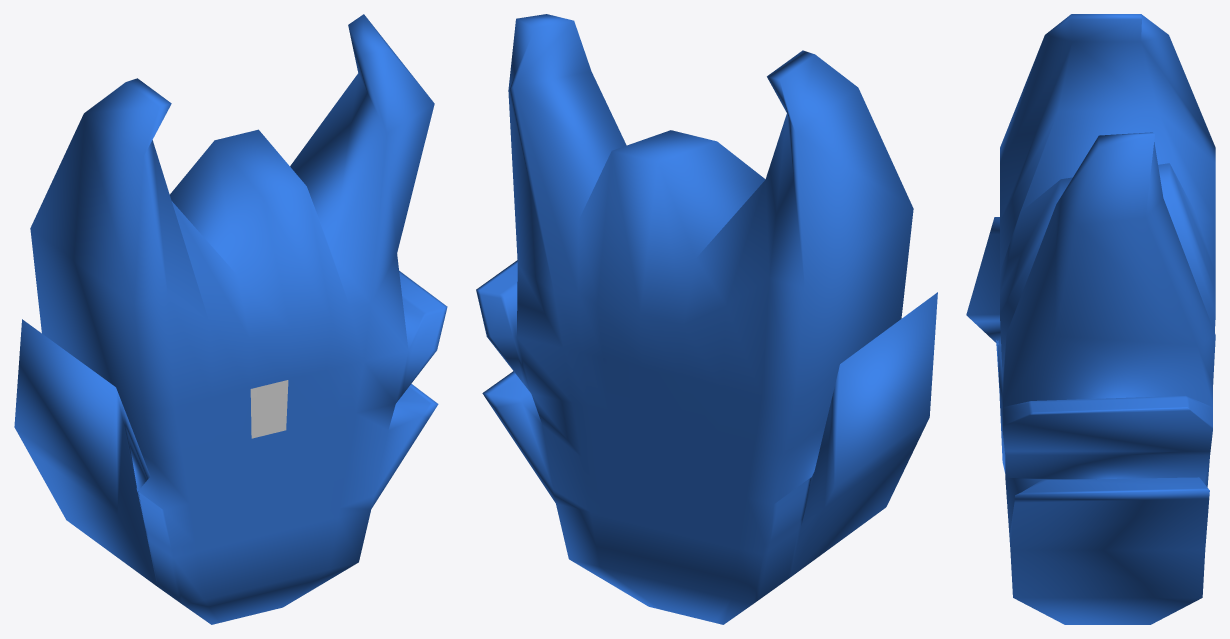
Rendered from Charakter3.fbx.
3 views of the same model, side by side, from view 1: azimuth 30°, elevation 25°; view 2: azimuth 150°, elevation 25°; view 3: azimuth 270°, elevation 25° (orthographic). The views are drawn at different scales.
Visible parts, largest first — view 1: Cube; view 2: Cube; view 3: Cube.
Part boxes in pixels (x1,y1,x2,y2): Cube: (14,14,447,624); Cube: (476,14,937,624); Cube: (966,14,1215,624).
Size of the model in its own units: 391 by 552 by 226.
